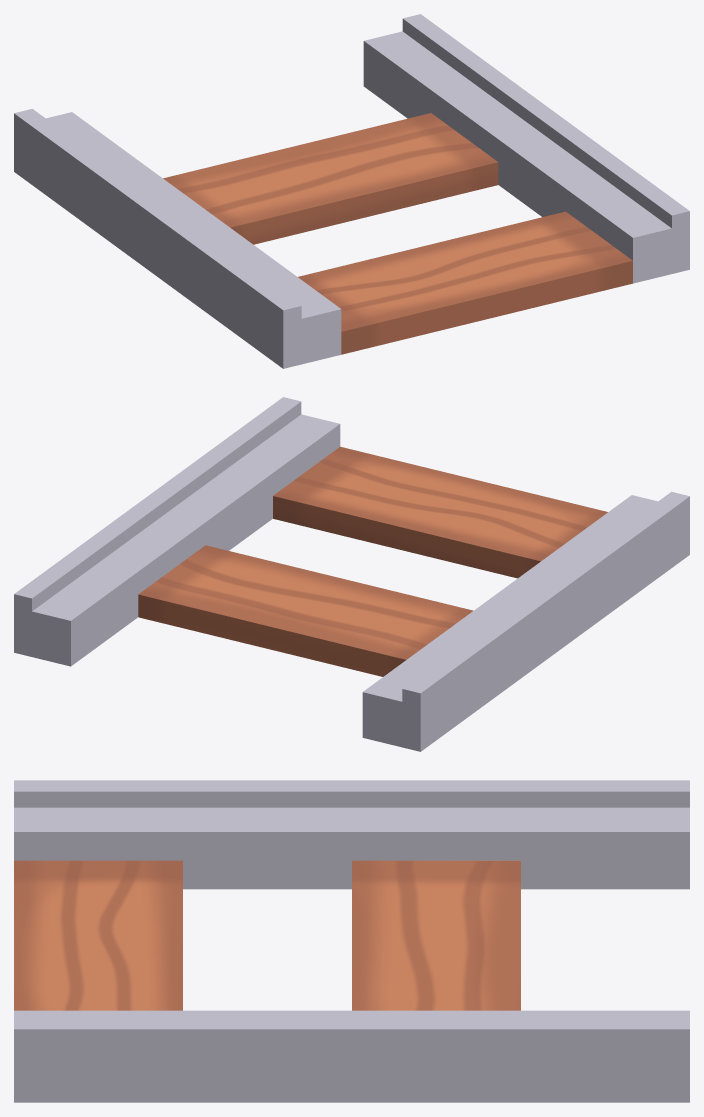
The model's file is Rails_ConnecoprPiece.fbx.
3 views of the same model, one above another, from view 1: azimuth 30°, elevation 25°; view 2: azimuth 150°, elevation 25°; view 3: azimuth 270°, elevation 25° (orthographic). The views are drawn at different scales.
Parts seen in each view (by area): view 1: Cube.001; view 2: Cube.001; view 3: Cube.001.
Part boxes in pixels (x1,y1,x2,y2): Cube.001: (14, 14, 689, 368); Cube.001: (14, 397, 689, 751); Cube.001: (14, 780, 689, 1102).
Bounding box in the file's own units: 175 × 24.1 × 201.
